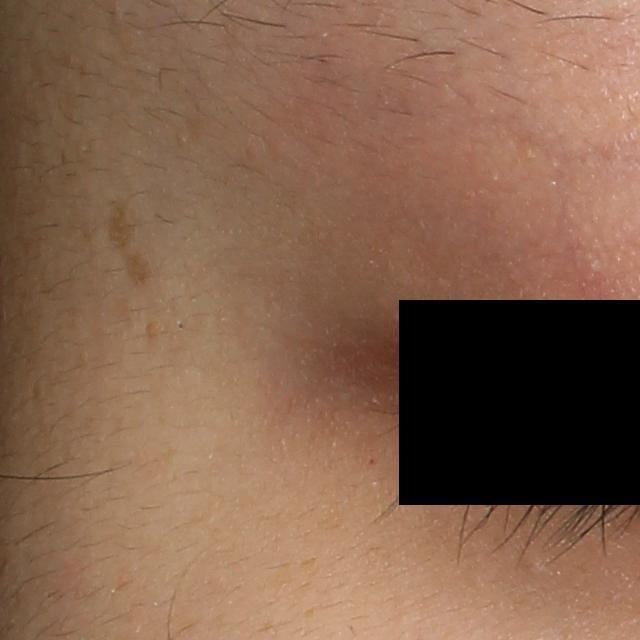melasma: (99, 195, 158, 294)
